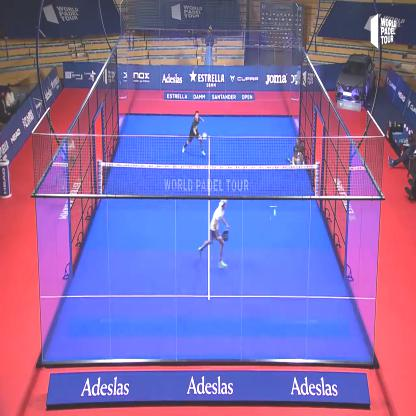ball: (271, 206, 278, 221)
